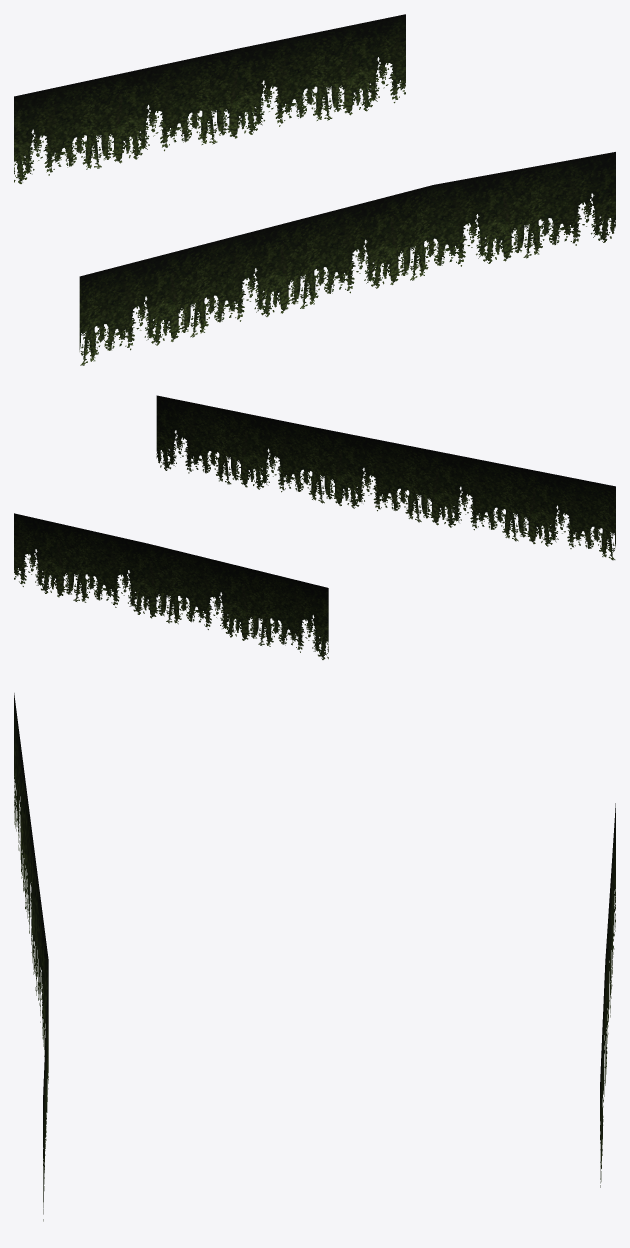
The model's file is scenery-5.glb.
3 renders of one model, top to bottom at view 1: azimuth 30°, elevation 25°; view 2: azimuth 150°, elevation 25°; view 3: azimuth 270°, elevation 25°, orthographic. The views are drawn at different scales.
Size of the model in its own units: 38.22 by 7.1 by 25.08.
1 material, 1 textured.
